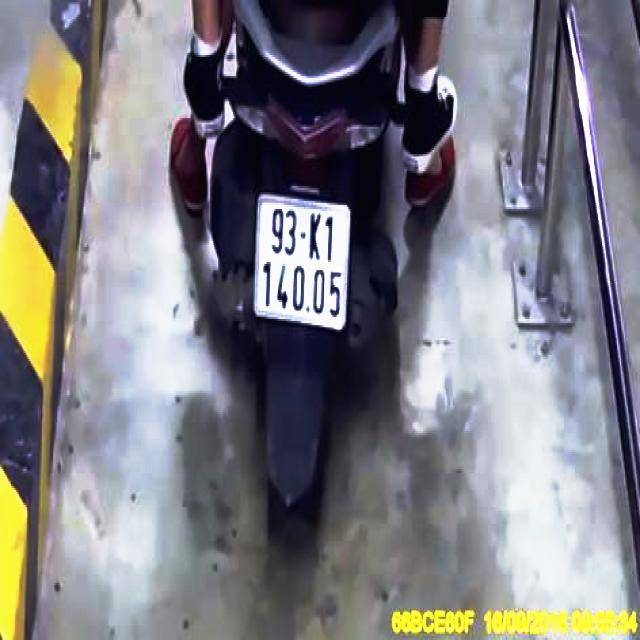license_plate: (256, 196, 350, 333)
